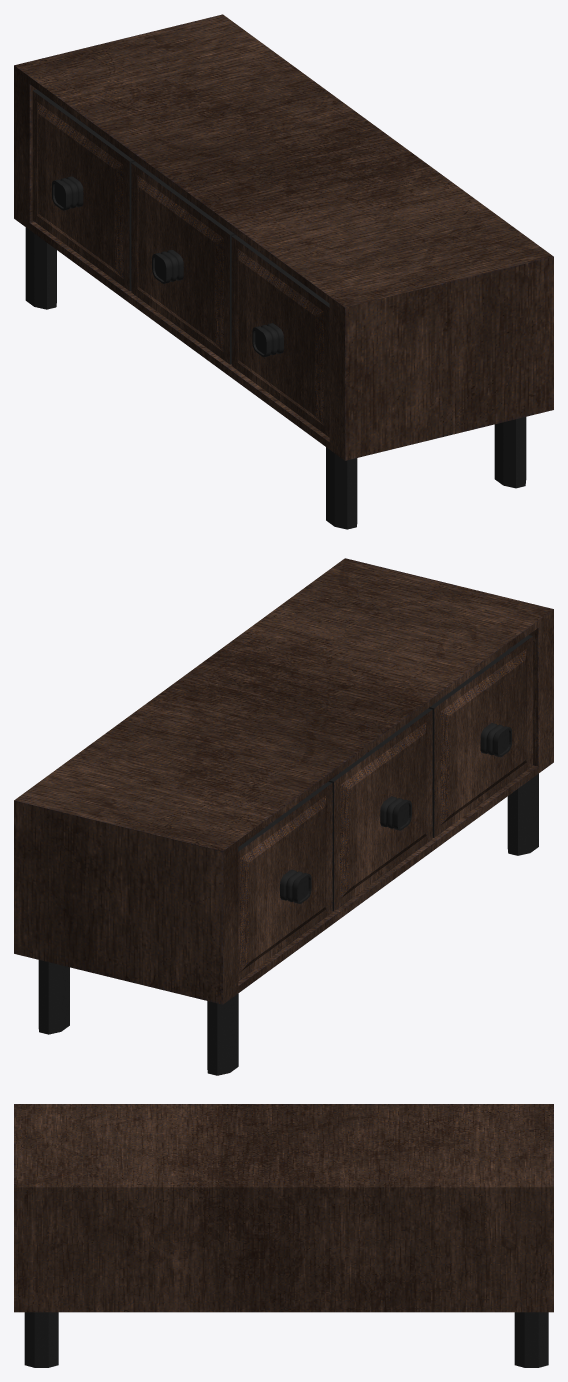
File: TVCabnet.fbx
The picture shows the model from 3 angles, top to bottom: view 1: azimuth 30°, elevation 25°; view 2: azimuth 150°, elevation 25°; view 3: azimuth 270°, elevation 25°; orthographic projection. The views are drawn at different scales.
Parts seen in each view (by area): view 1: polySurface145; view 2: polySurface145; view 3: polySurface145.
Boxes of the visible parts, box(x1,y1,x2,y2) form: polySurface145: box(14, 14, 553, 529); polySurface145: box(14, 558, 553, 1075); polySurface145: box(14, 1104, 553, 1367).
Bounding box in the file's own units: 84.73 × 81.54 × 214.
